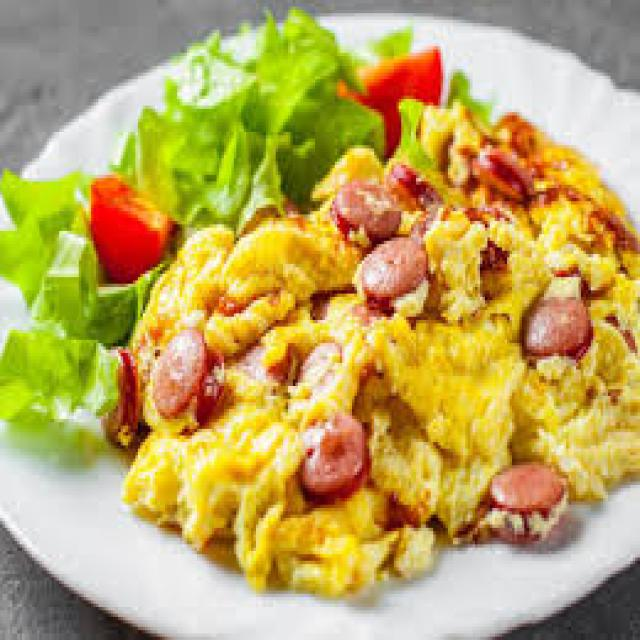telur_dadar: (134, 111, 640, 581)
